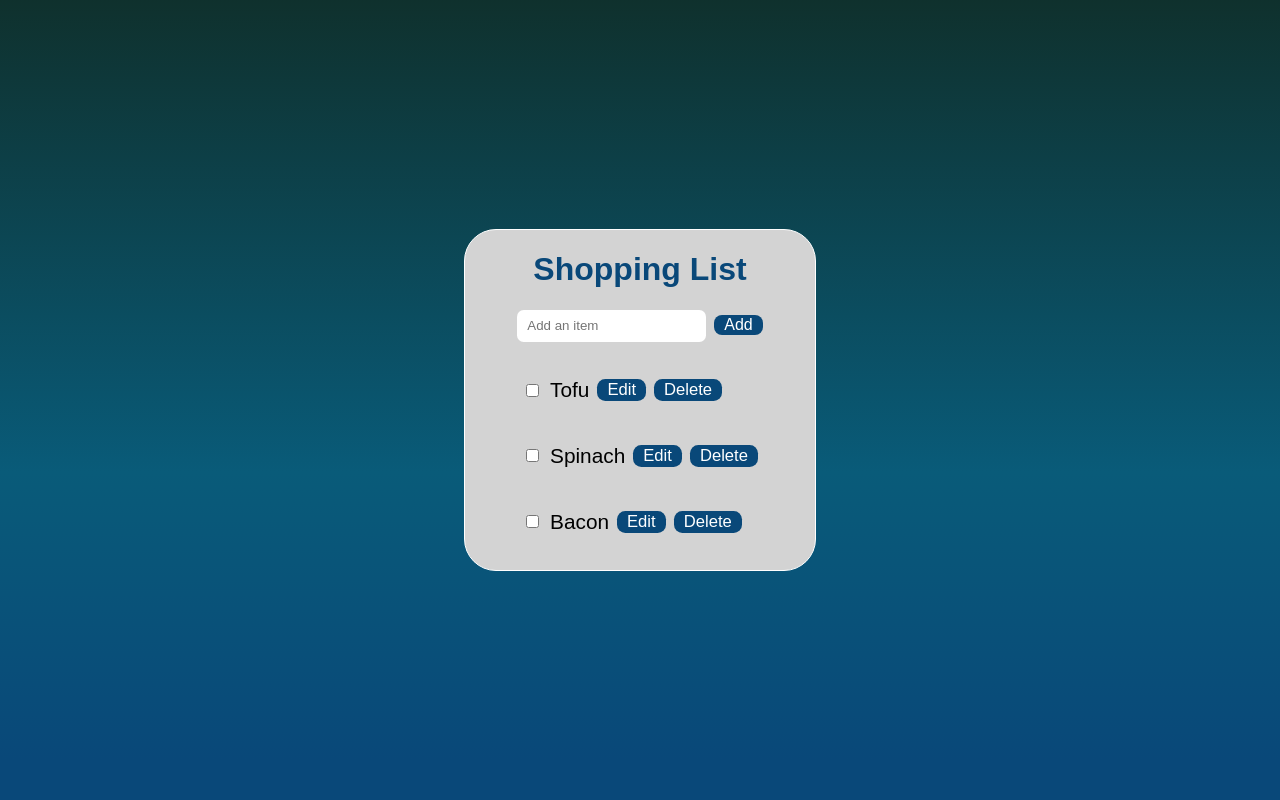
Test: should allow editing of an item in the list when edit is pressed
What coordinates should you click on to do the following:
click the button with aria-label "edit Bacon"
I would click on:
 (641, 522)
Its box is 617,510 -> 666,532.
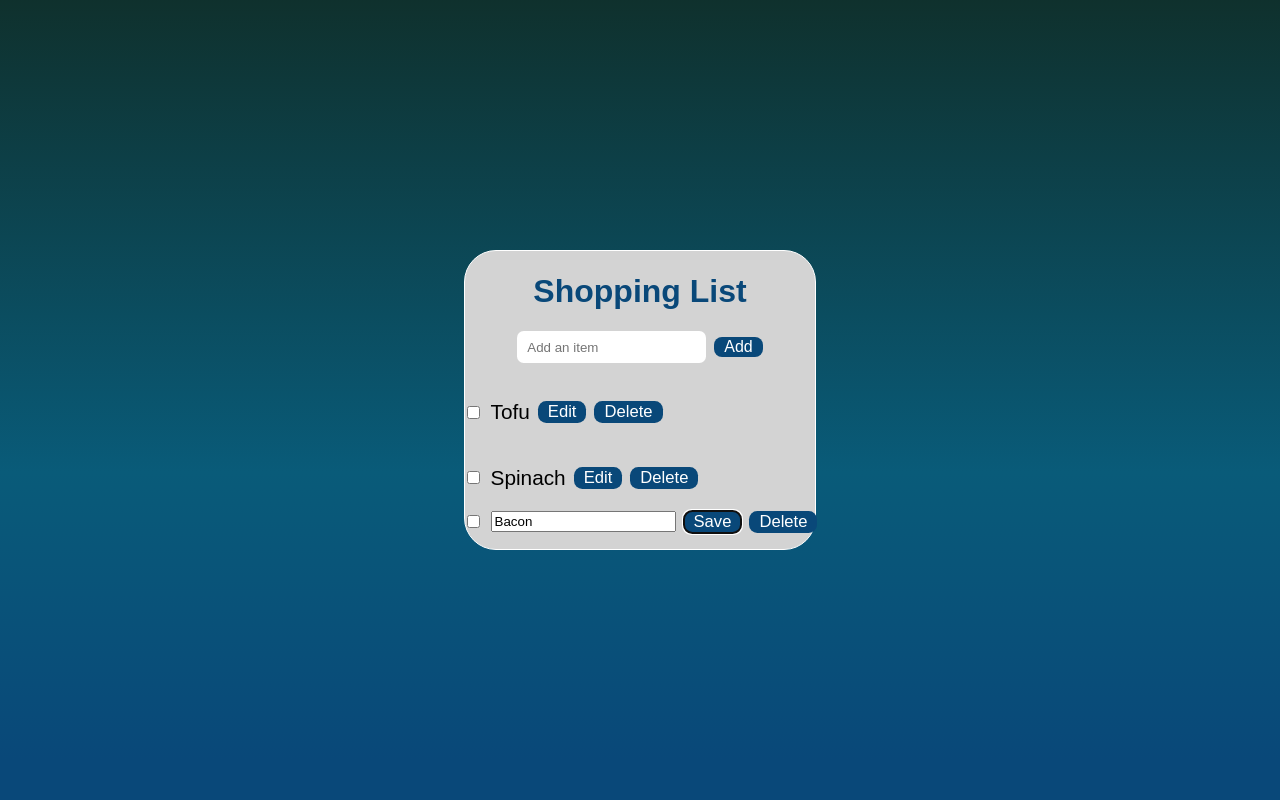
Now the field named "edit" is shown, box 490,511 -> 676,532
